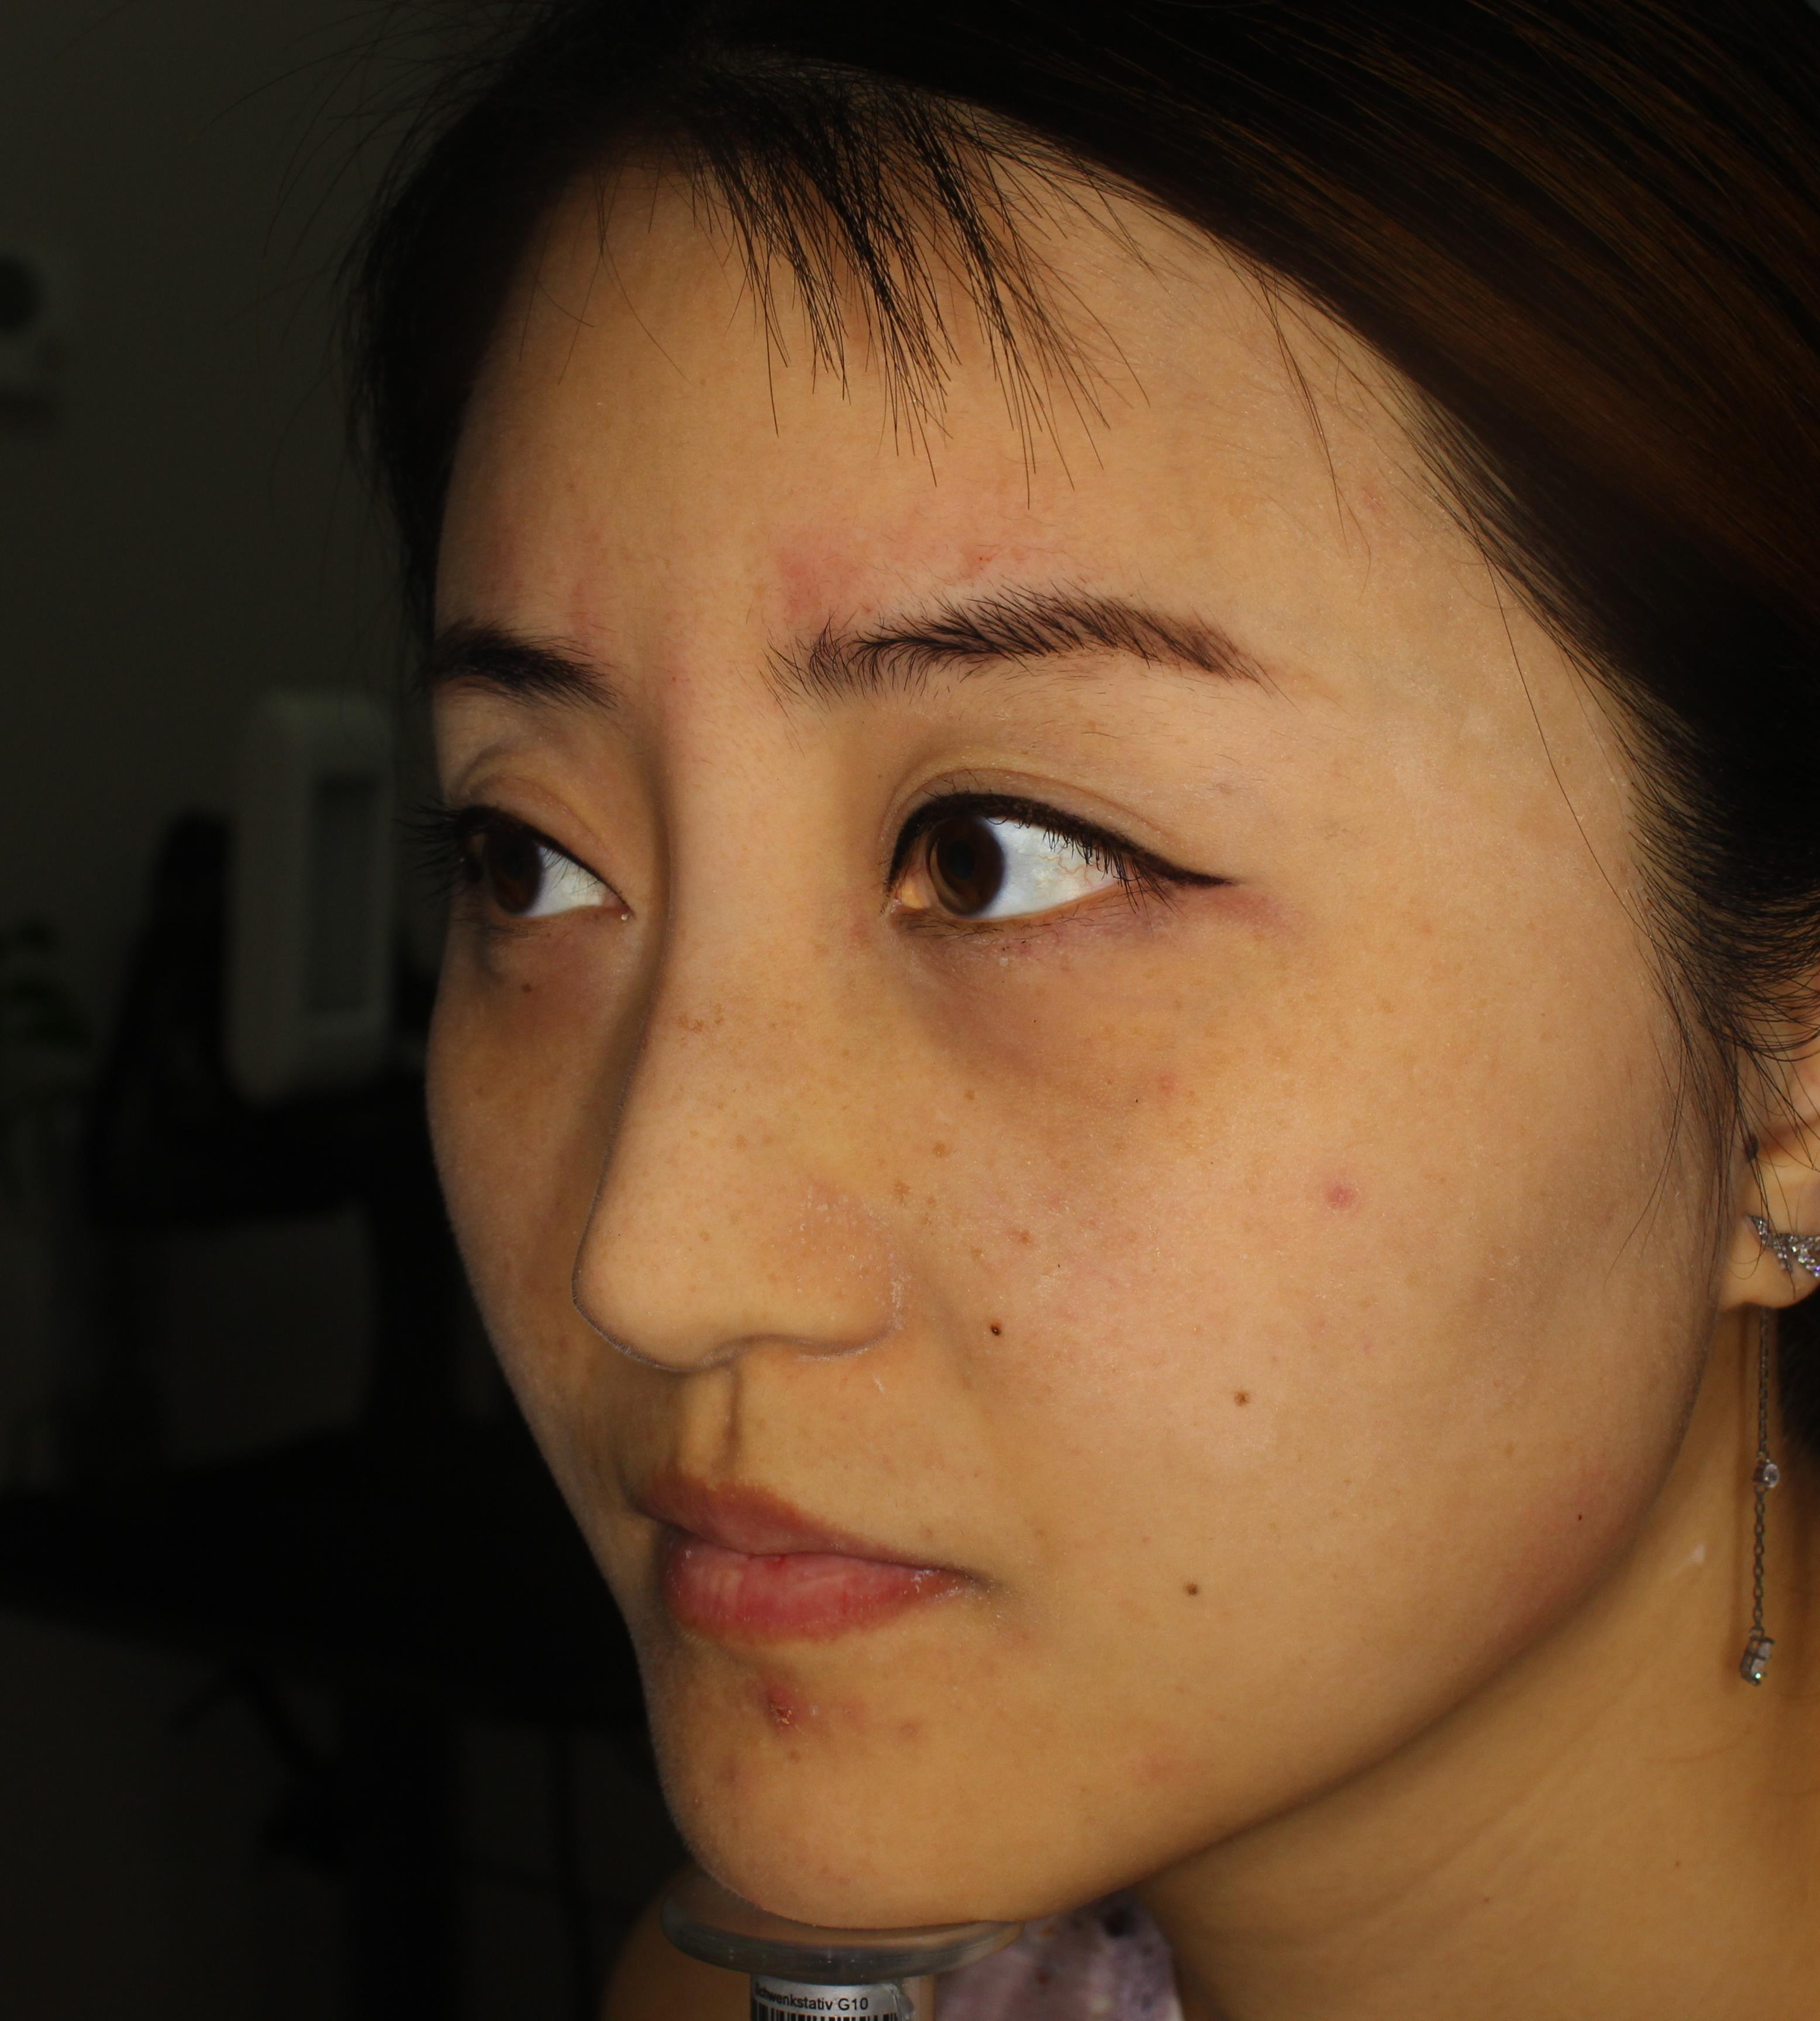fore: (727, 1621, 808, 1754)
